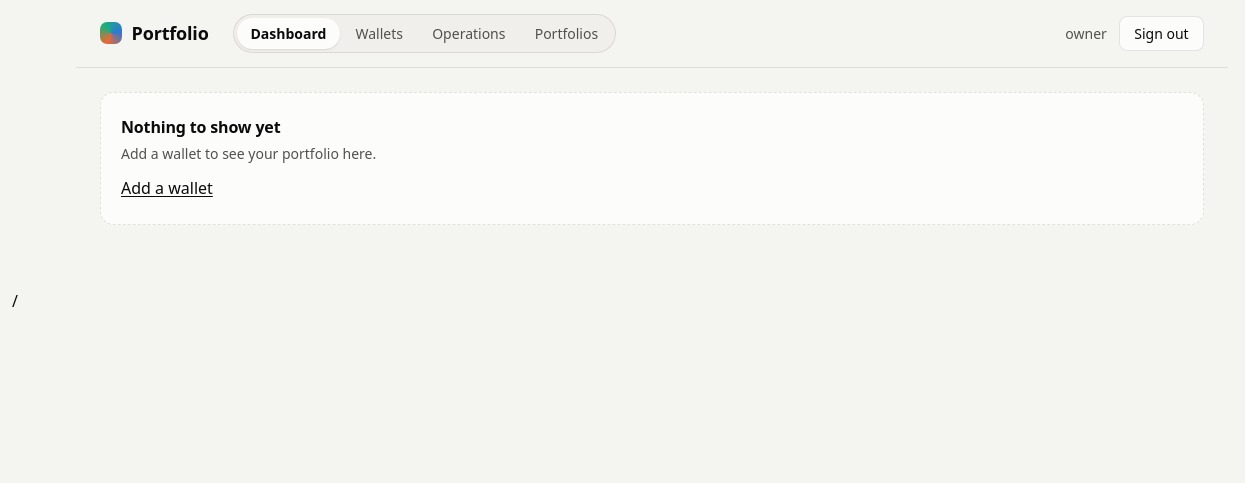
it: App › signs out and returns to the login page
Click the button "Sign out" at {"x": 1161, "y": 34}, box [1119,16,1204,51]
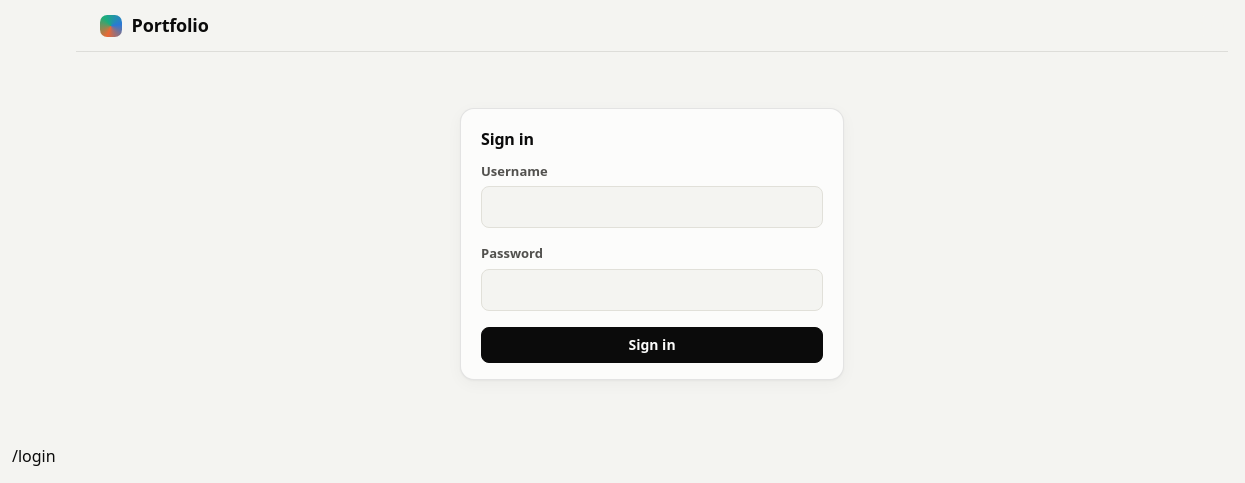
Check: the text with test id "current-location" reads "/login", box [12,445,56,467]
